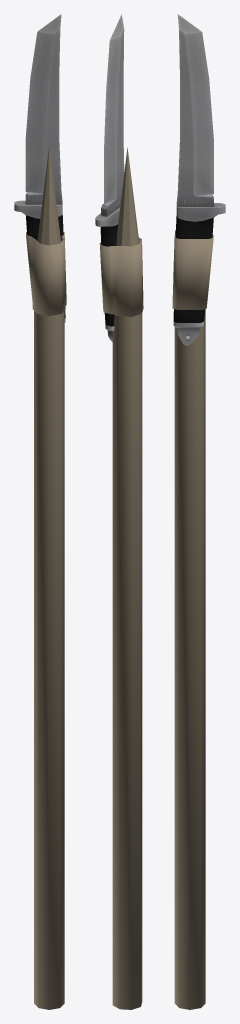
File: PlankSpearTantoKnife.fbx
The picture shows the model from 3 angles, left to right: view 1: azimuth 90°, elevation 25°; view 2: azimuth 150°, elevation 25°; view 3: azimuth 270°, elevation 25°; orthographic projection.
Parts seen in each view (by area): view 1: TantoKnife.003; view 2: TantoKnife.003; view 3: TantoKnife.003.
Part boxes in pixels (x1,y1,x2,y2): TantoKnife.003: [14, 14, 66, 1009]; TantoKnife.003: [95, 14, 143, 1009]; TantoKnife.003: [172, 14, 225, 1009].
Bounding box in the file's own units: 0.0295 × 0.8504 × 0.041.
